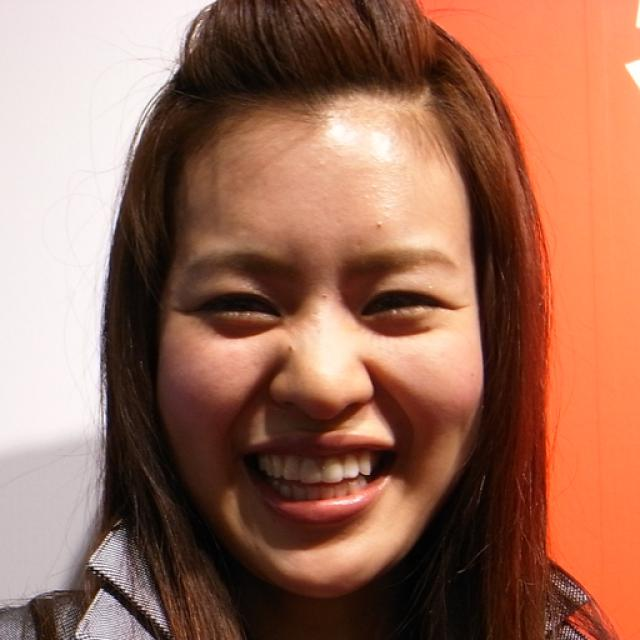Acne: (369, 210, 393, 238)
